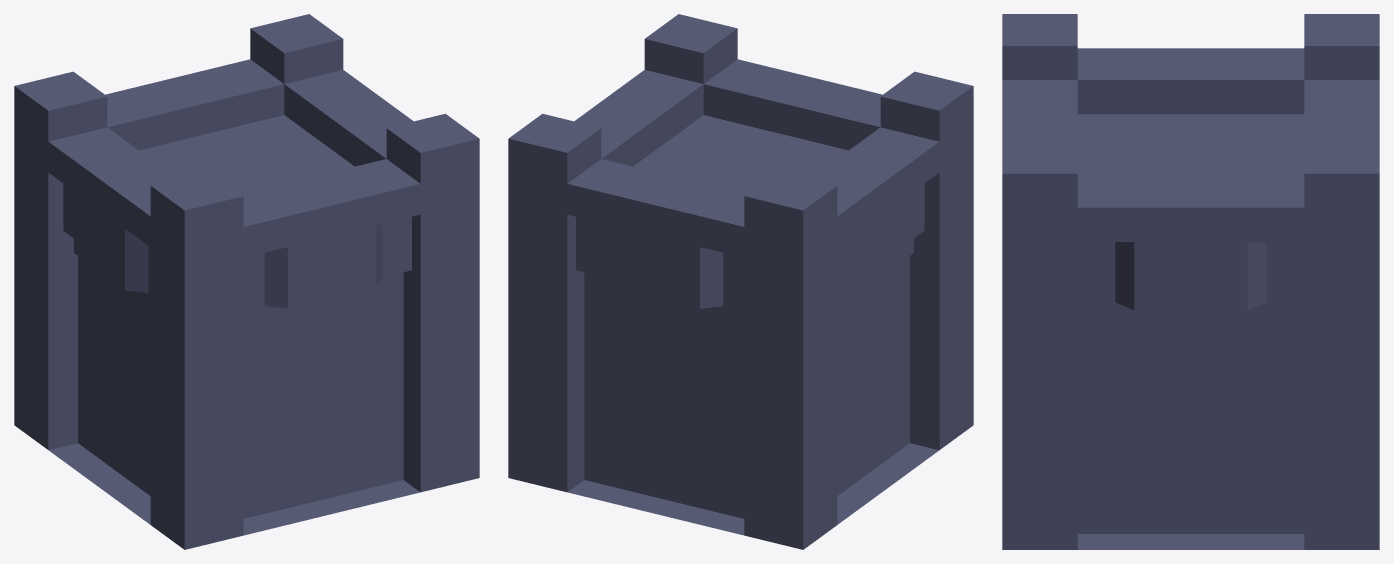
Rendered from kenney_mini-dungeon__wall__cave.fbx.
The picture shows the model from 3 angles, left to right: view 1: azimuth 30°, elevation 25°; view 2: azimuth 150°, elevation 25°; view 3: azimuth 270°, elevation 25°; orthographic projection. The views are drawn at different scales.
Visible parts, largest first — view 1: kenney_mini-dungeon__wall__cave_stone; view 2: kenney_mini-dungeon__wall__cave_stone; view 3: kenney_mini-dungeon__wall__cave_stone.
Part boxes in pixels (x1=…): kenney_mini-dungeon__wall__cave_stone: x1=14, y1=14, x2=479, y2=549; kenney_mini-dungeon__wall__cave_stone: x1=508, y1=14, x2=973, y2=549; kenney_mini-dungeon__wall__cave_stone: x1=1002, y1=14, x2=1379, y2=549.
Bounding box in the file's own units: 3.57 × 3.93 × 3.57.
Materials: 1 (1 with a texture image).
